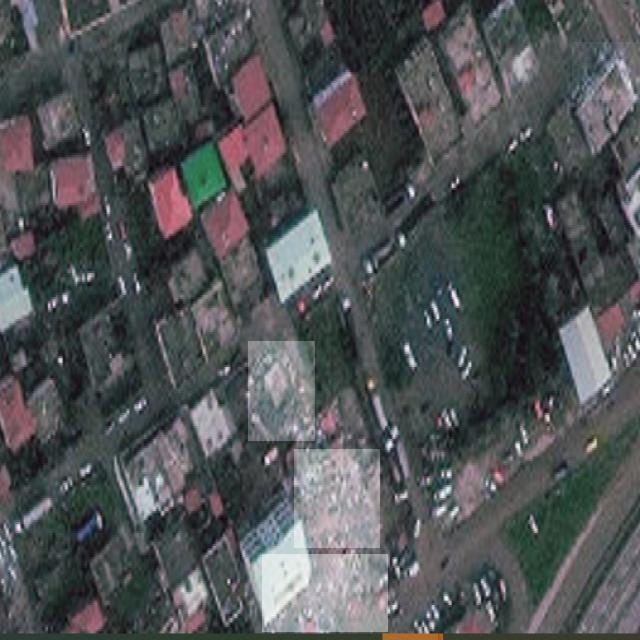Rubble: (262, 554, 388, 632), (294, 449, 380, 548), (248, 341, 315, 441), (572, 42, 640, 100)
